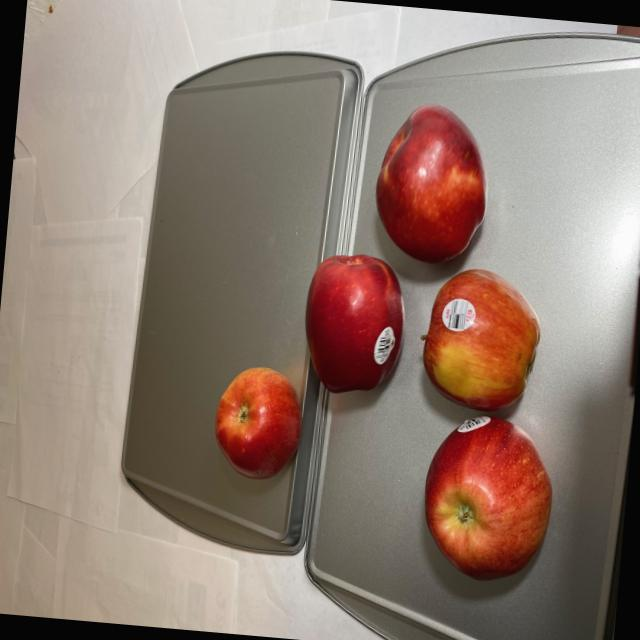apple: (283, 94, 592, 592), (208, 362, 310, 490)
